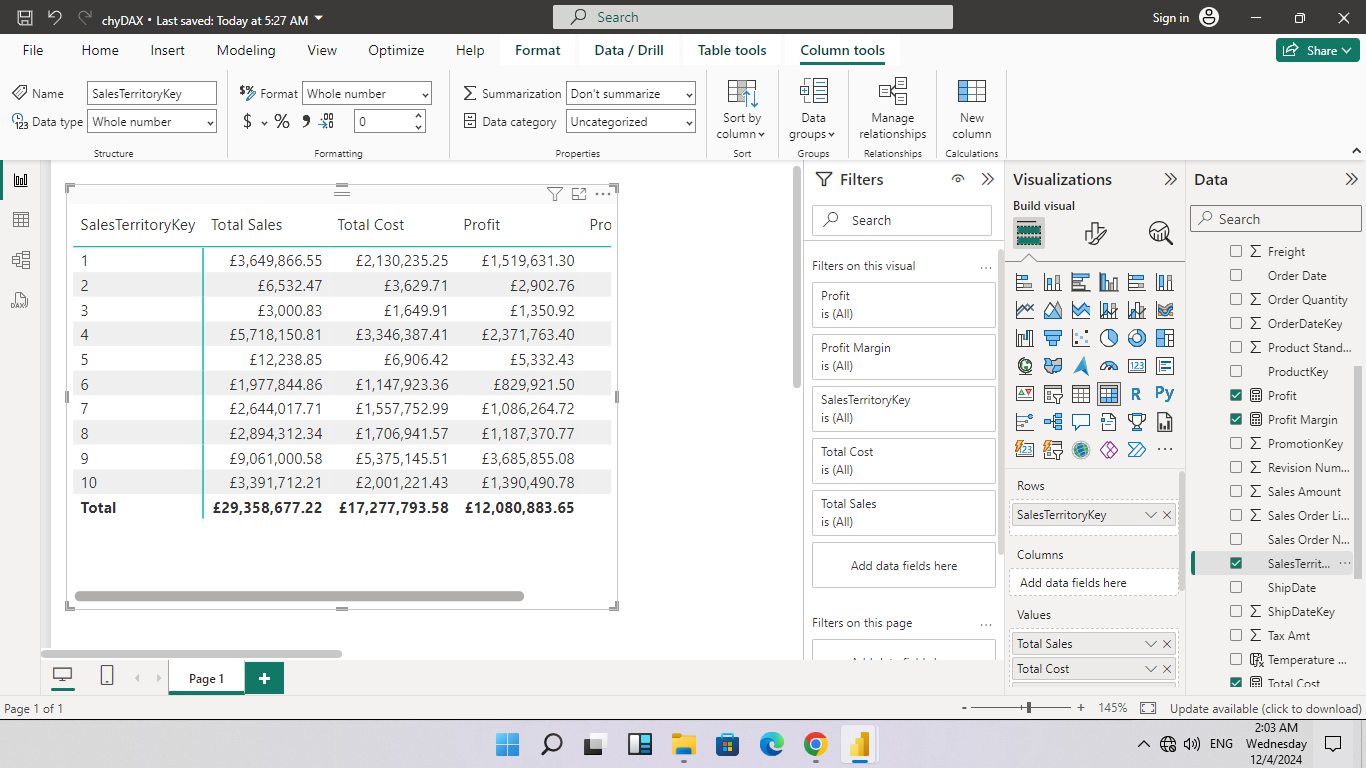

Layout of this report page (visuals, bound fields, positions):
{"tool":"powerbi","page":{"name":"Page 1","canvas":[1280,720],"ordinal":0},"visuals":[{"type":"pivotTable","fields":{"Values":["Internet Sales.Total Sales","Internet Sales.Total Cost","Internet Sales.Profit","Internet Sales.Profit Margin","Internet Sales.Total sales(All Countries)","Internet Sales.Total sales(Canada)","Internet Sales.Total sales(united States)","Internet Sales.Total sales(US & Canada)","Internet Sales.YTD Sales","Internet Sales.Fiscal YTD Sales","Internet Sales.YTD Sales(Weekdays)","Internet Sales.Prior Year sales"],"Rows":["Date.Year"]},"box":[10.3,20,510.3,280],"z":0}]}

Visuals, with their boxes on the page's 1280x720 design canvas (x1, y1, x2, y2). These are canvas units, not pixel positions in the 1366x768 screenshot, which may show the page scaled, cropped or inside an application window:
pivotTable - Internet Sales.Total Sales x Internet Sales.Total Cost: (10, 20, 521, 300)
